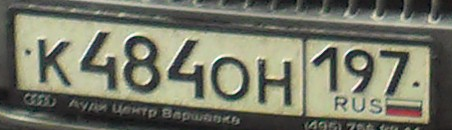character: (165, 29, 207, 103), (78, 26, 121, 94), (121, 30, 164, 98), (254, 52, 297, 112), (207, 50, 253, 106), (36, 35, 77, 90), (341, 44, 377, 96), (308, 43, 341, 97), (379, 46, 411, 96)
